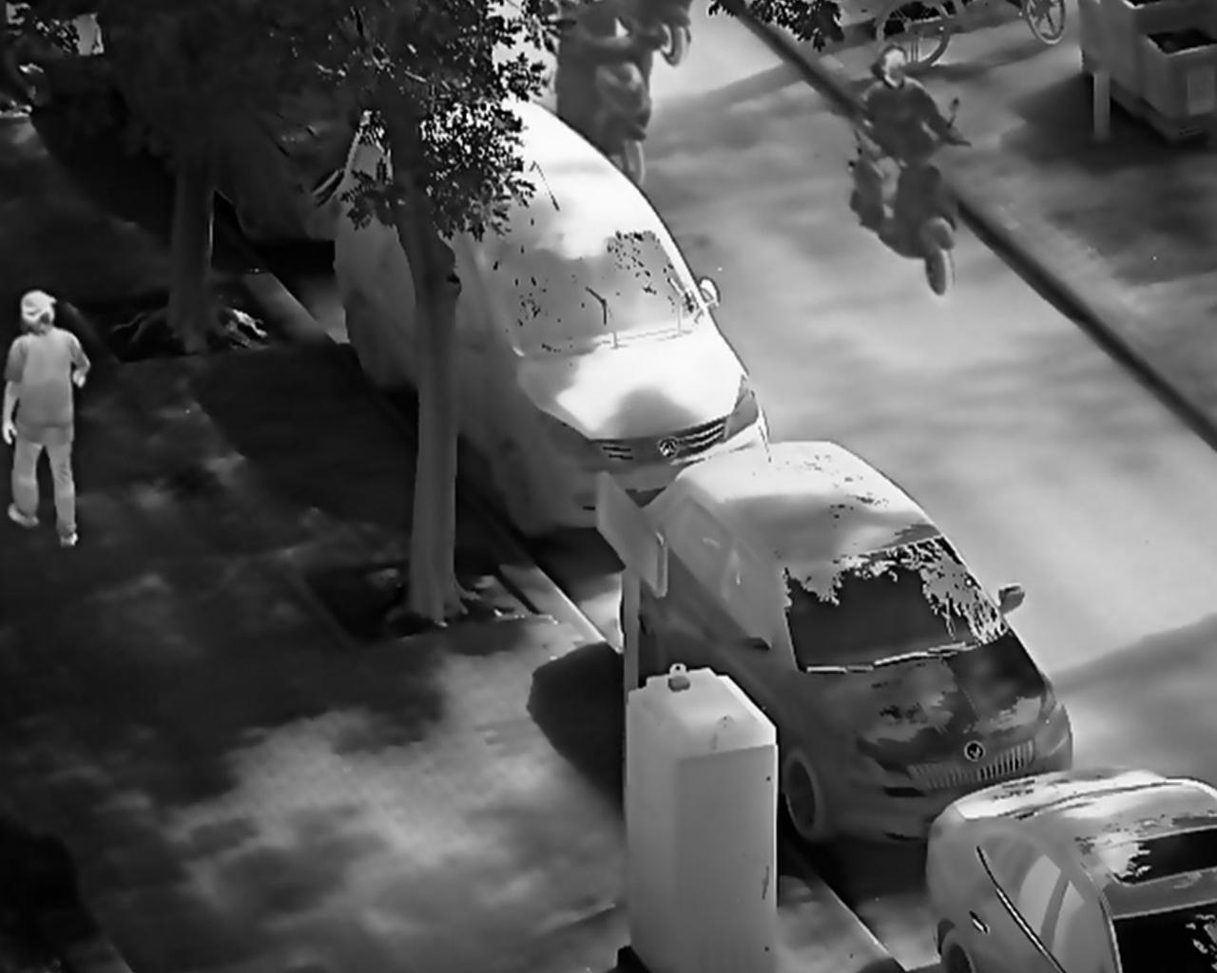person: (854, 40, 968, 226)
